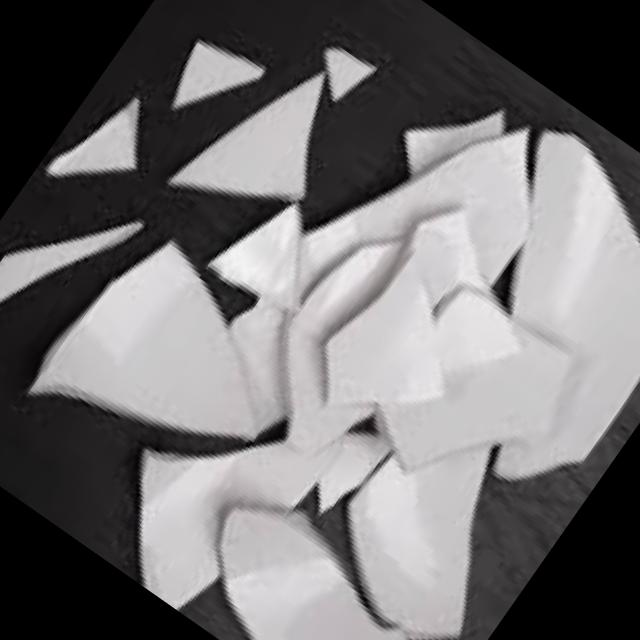PecahanKaca: (0, 0, 640, 640), (0, 0, 497, 528)
